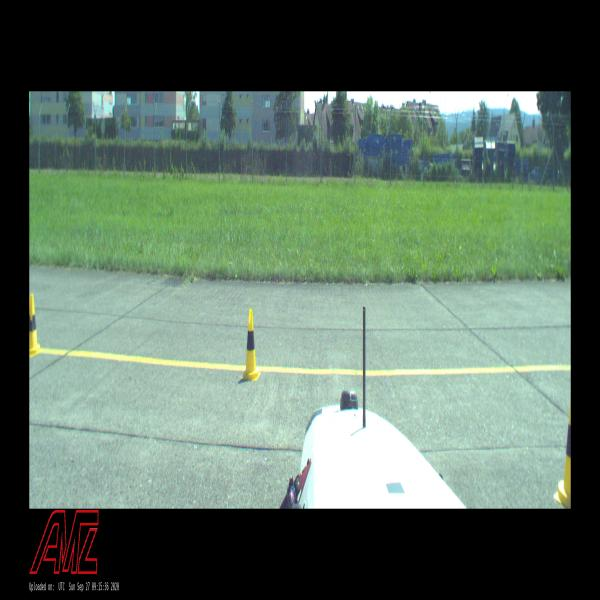yellow_cone: (558, 392, 571, 508), (243, 309, 259, 379), (29, 294, 40, 355)
